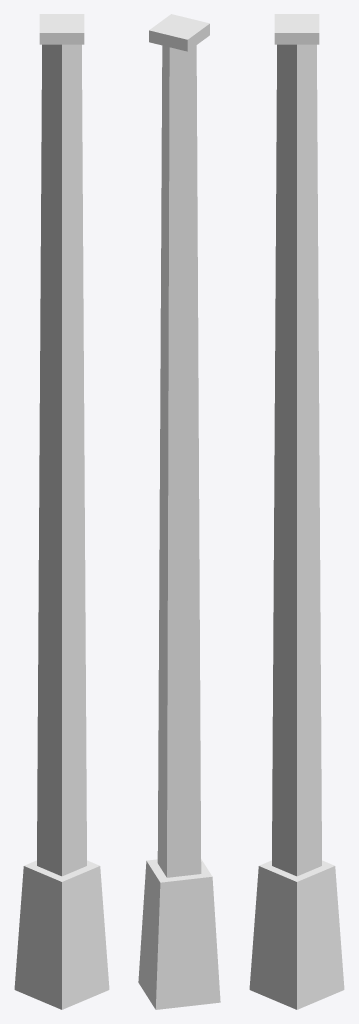
The model's file is flagPole.glb.
The picture shows the model from 3 angles, left to right: view 1: azimuth 90°, elevation 25°; view 2: azimuth 150°, elevation 25°; view 3: azimuth 270°, elevation 25°; orthographic projection.
Parts seen in each view (by area): view 1: flag_Pole; view 2: flag_Pole; view 3: flag_Pole.
Part boxes in pixels (<box>): flag_Pole: <box>14,14,109,1009</box>; flag_Pole: <box>138,14,220,1009</box>; flag_Pole: <box>249,14,344,1009</box>.
Size of the model in its own units: 0.3883 by 4.36 by 0.3883.
Materials: 1 (1 with a texture image).
